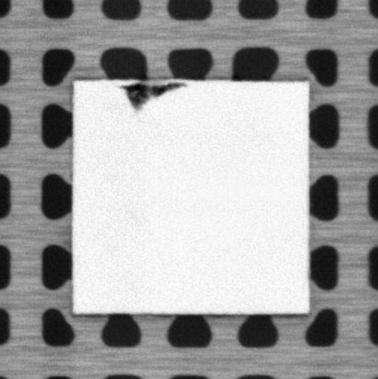DIE_INK: (119, 82, 187, 112)
